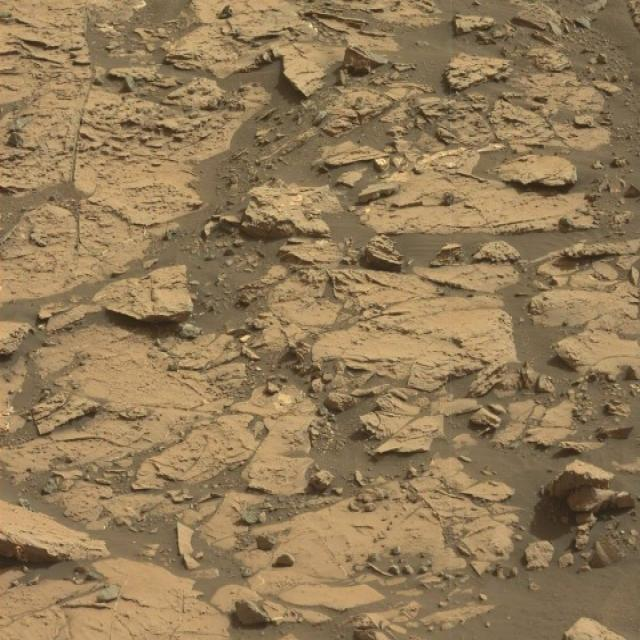rock: (541, 461, 635, 512), (361, 230, 405, 276), (338, 43, 390, 76)
